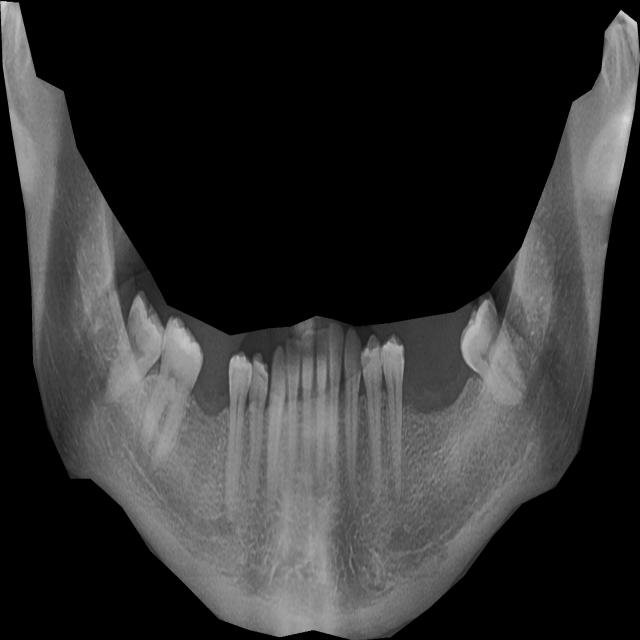mandibula: (0, 1, 640, 640)
